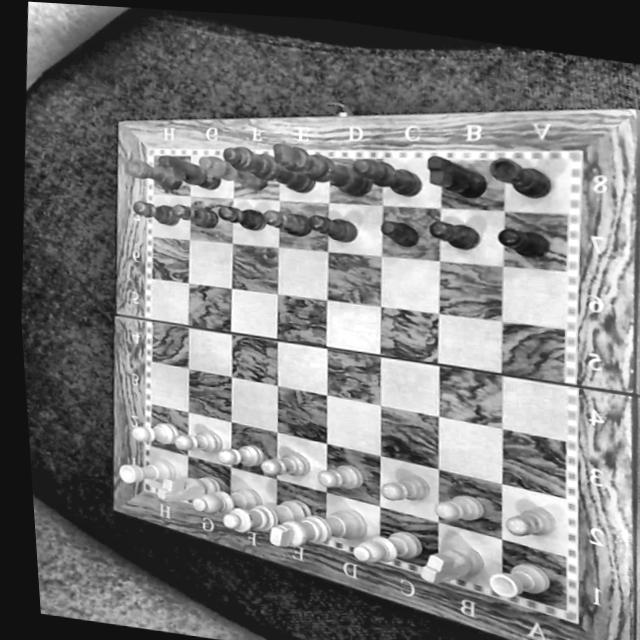chessboard: (148, 157, 563, 610)
